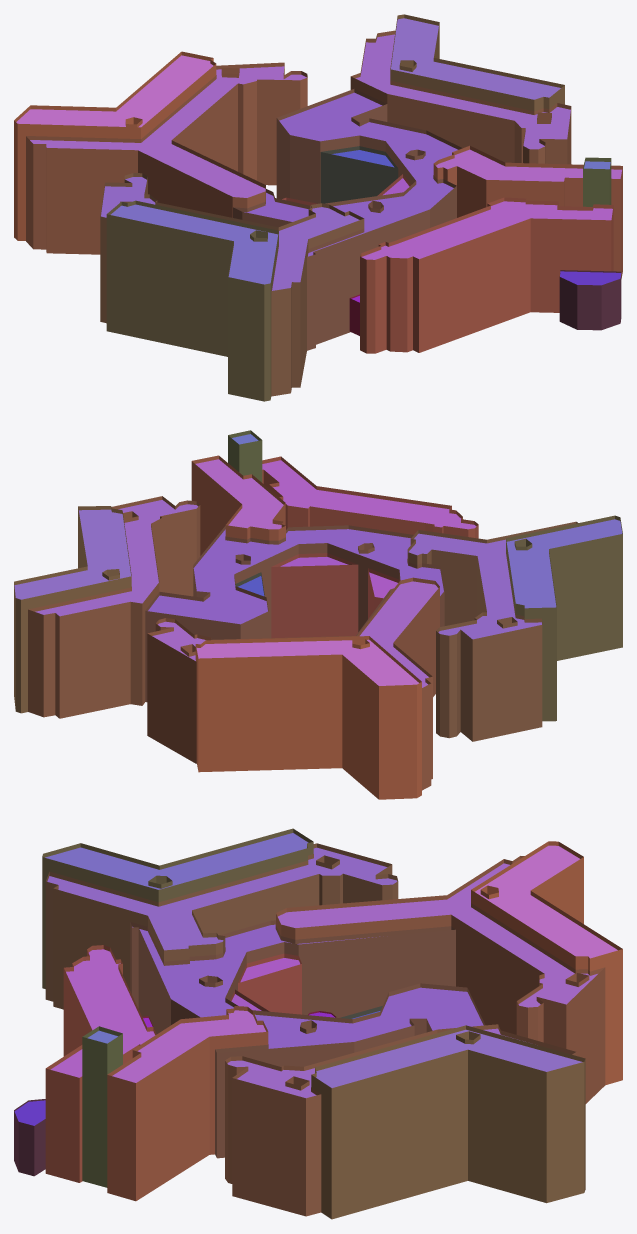
Rendered from edificios_Hotel.glb.
The picture shows the model from 3 angles, top to bottom: view 1: azimuth 30°, elevation 25°; view 2: azimuth 150°, elevation 25°; view 3: azimuth 270°, elevation 25°; orthographic projection. The views are drawn at different scales.
Visible parts, largest first — view 1: Edificios_Hotel; view 2: Edificios_Hotel; view 3: Edificios_Hotel.
Part boxes in pixels (x1,y1,x2,y2): Edificios_Hotel: [14, 14, 622, 401]; Edificios_Hotel: [14, 430, 622, 799]; Edificios_Hotel: [14, 828, 622, 1219].
Size of the model in its own units: 129 by 33.89 by 127.
